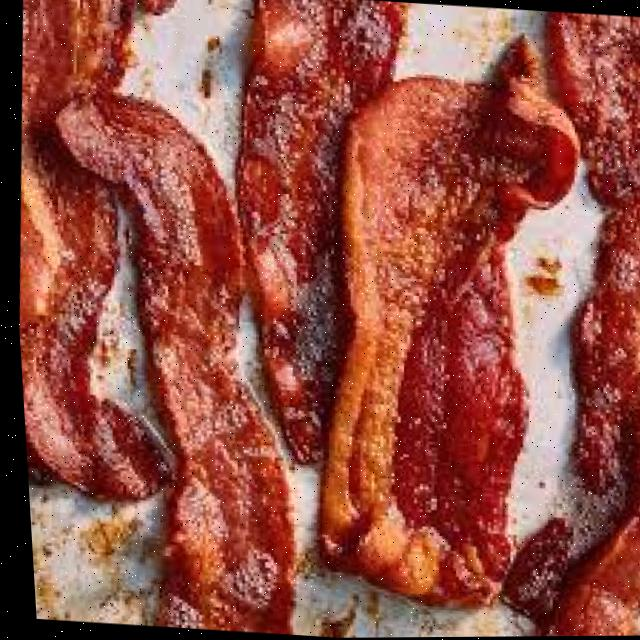Bacon: (313, 42, 575, 606), (53, 100, 282, 635), (234, 0, 399, 464), (15, 0, 166, 500), (567, 210, 640, 495), (546, 12, 640, 209)
